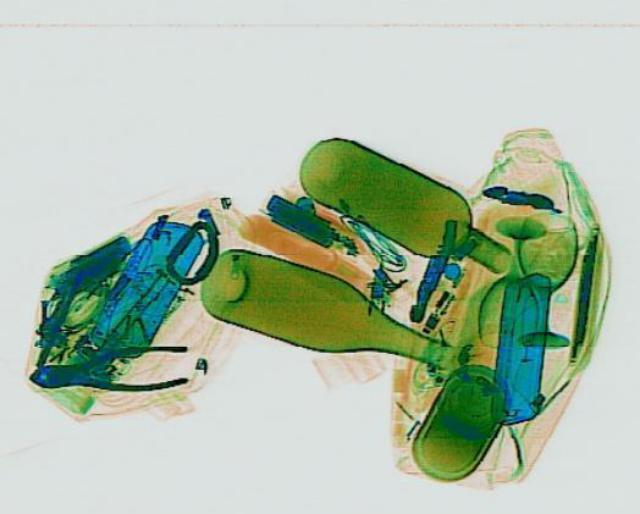Pliers: (26, 341, 190, 396)
